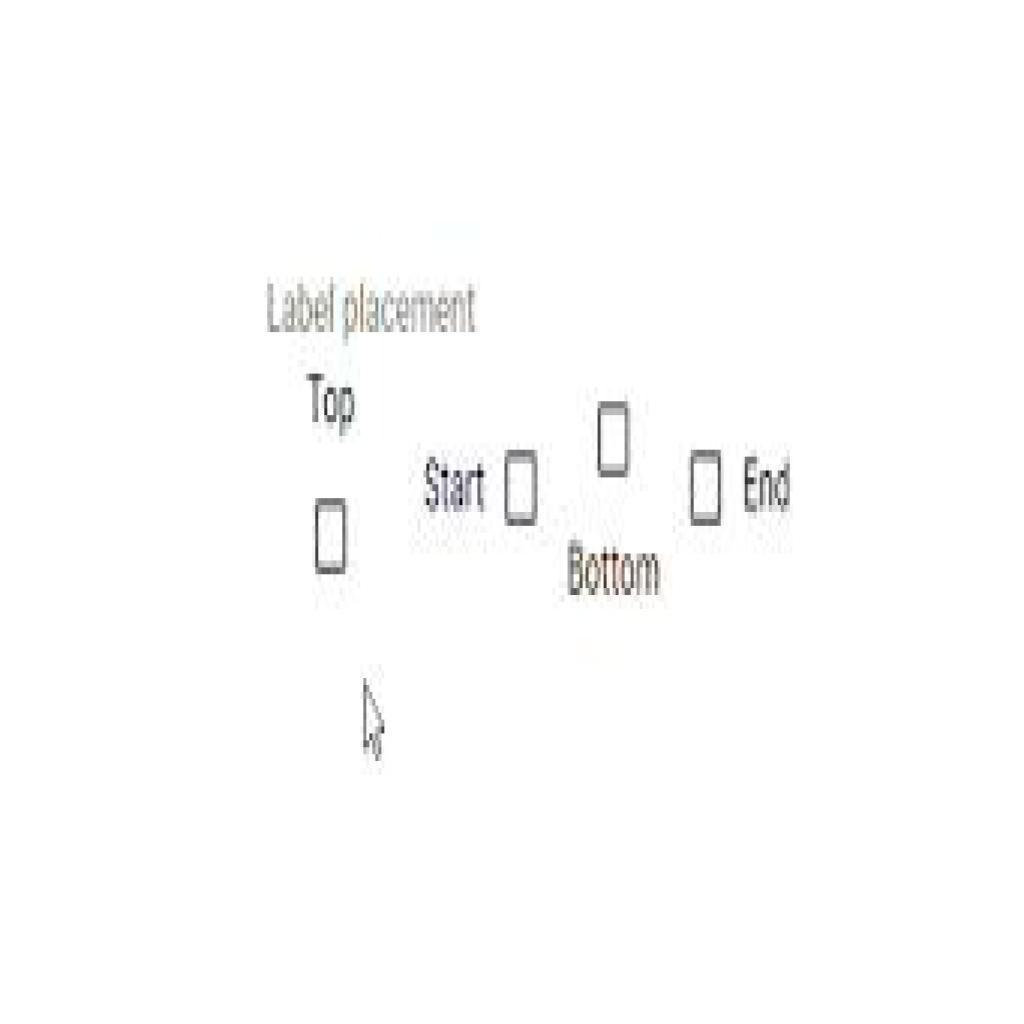checkbox: (597, 403, 632, 477), (315, 499, 348, 574), (691, 451, 723, 523), (506, 456, 537, 526)
label: (263, 283, 484, 342), (563, 540, 664, 601), (302, 365, 365, 437), (420, 454, 490, 513), (741, 449, 794, 512)
